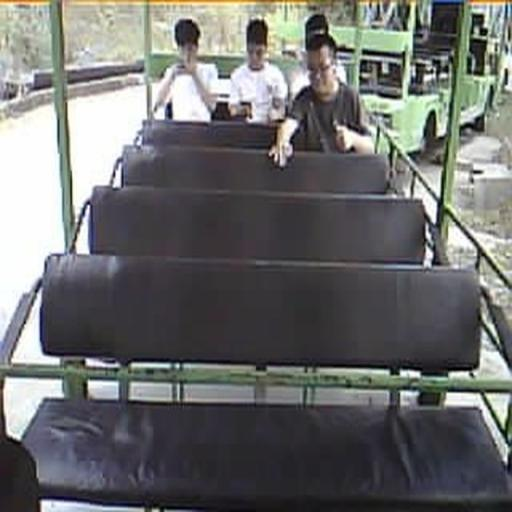persona: (268, 36, 376, 170), (152, 18, 220, 122), (227, 19, 288, 123), (288, 12, 348, 106)
